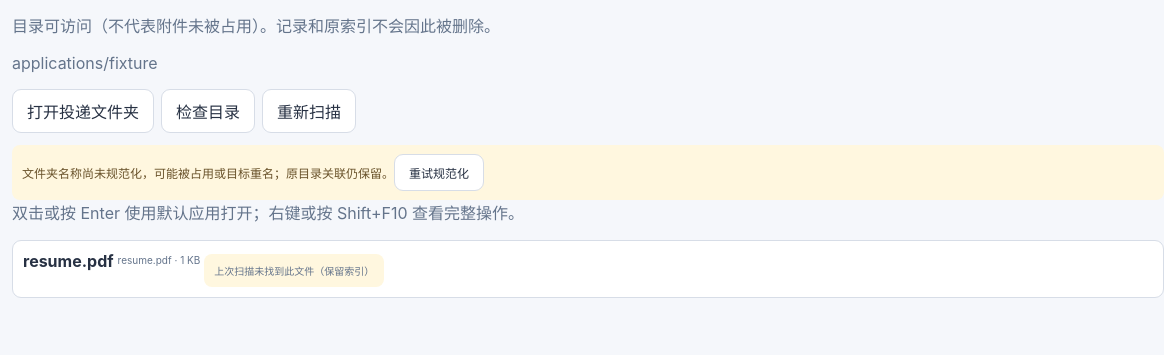
Test case: file health feedback › keeps indexes on scan failure and lets a successful retry mark missing files
This screenshot has width=1164, height=355.
Check: the text "目录可访问（不代表附件未被占用）。记录和原索引不会因此被删除。" is shown, box left=12, top=16, right=500, bottom=36
Click the button "重新扫描" at coordinates (309, 111), box left=262, top=89, right=356, bottom=133
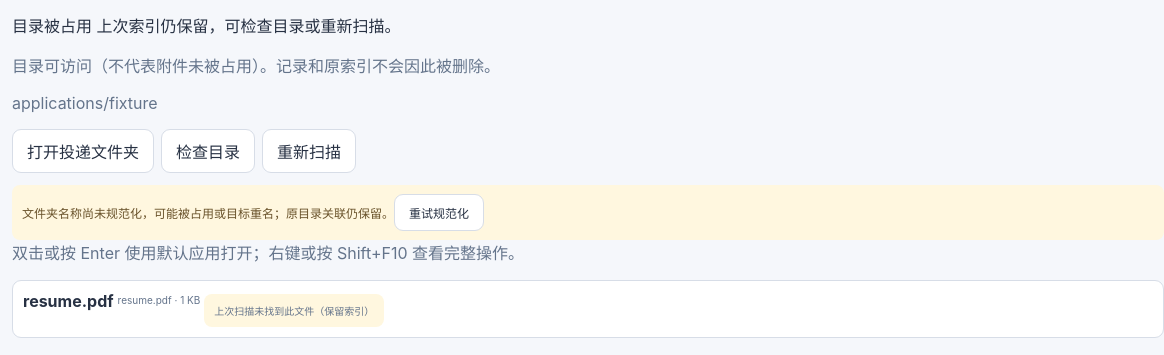
Check: the message "目录被占用 上次索引仍保留，可检查目录或重新扫描。" is shown, box left=12, top=16, right=400, bottom=36
Click the button "重新扫描" at coordinates (309, 151), box left=262, top=129, right=356, bottom=173
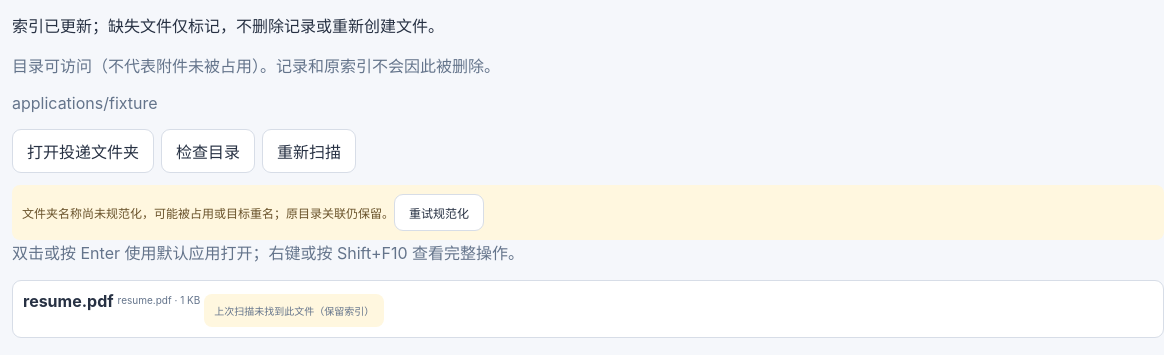
Check: the text "索引已更新；缺失文件仅标记，不删除记录或重新创建文件。" is shown, box left=12, top=16, right=444, bottom=36
